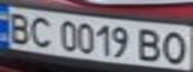0: (54, 17, 78, 52), (75, 20, 96, 55)
1: (93, 21, 112, 56)
9: (109, 24, 133, 60)
B: (3, 9, 36, 44), (136, 26, 166, 62)
C: (24, 14, 57, 48)
O: (160, 28, 190, 65)
